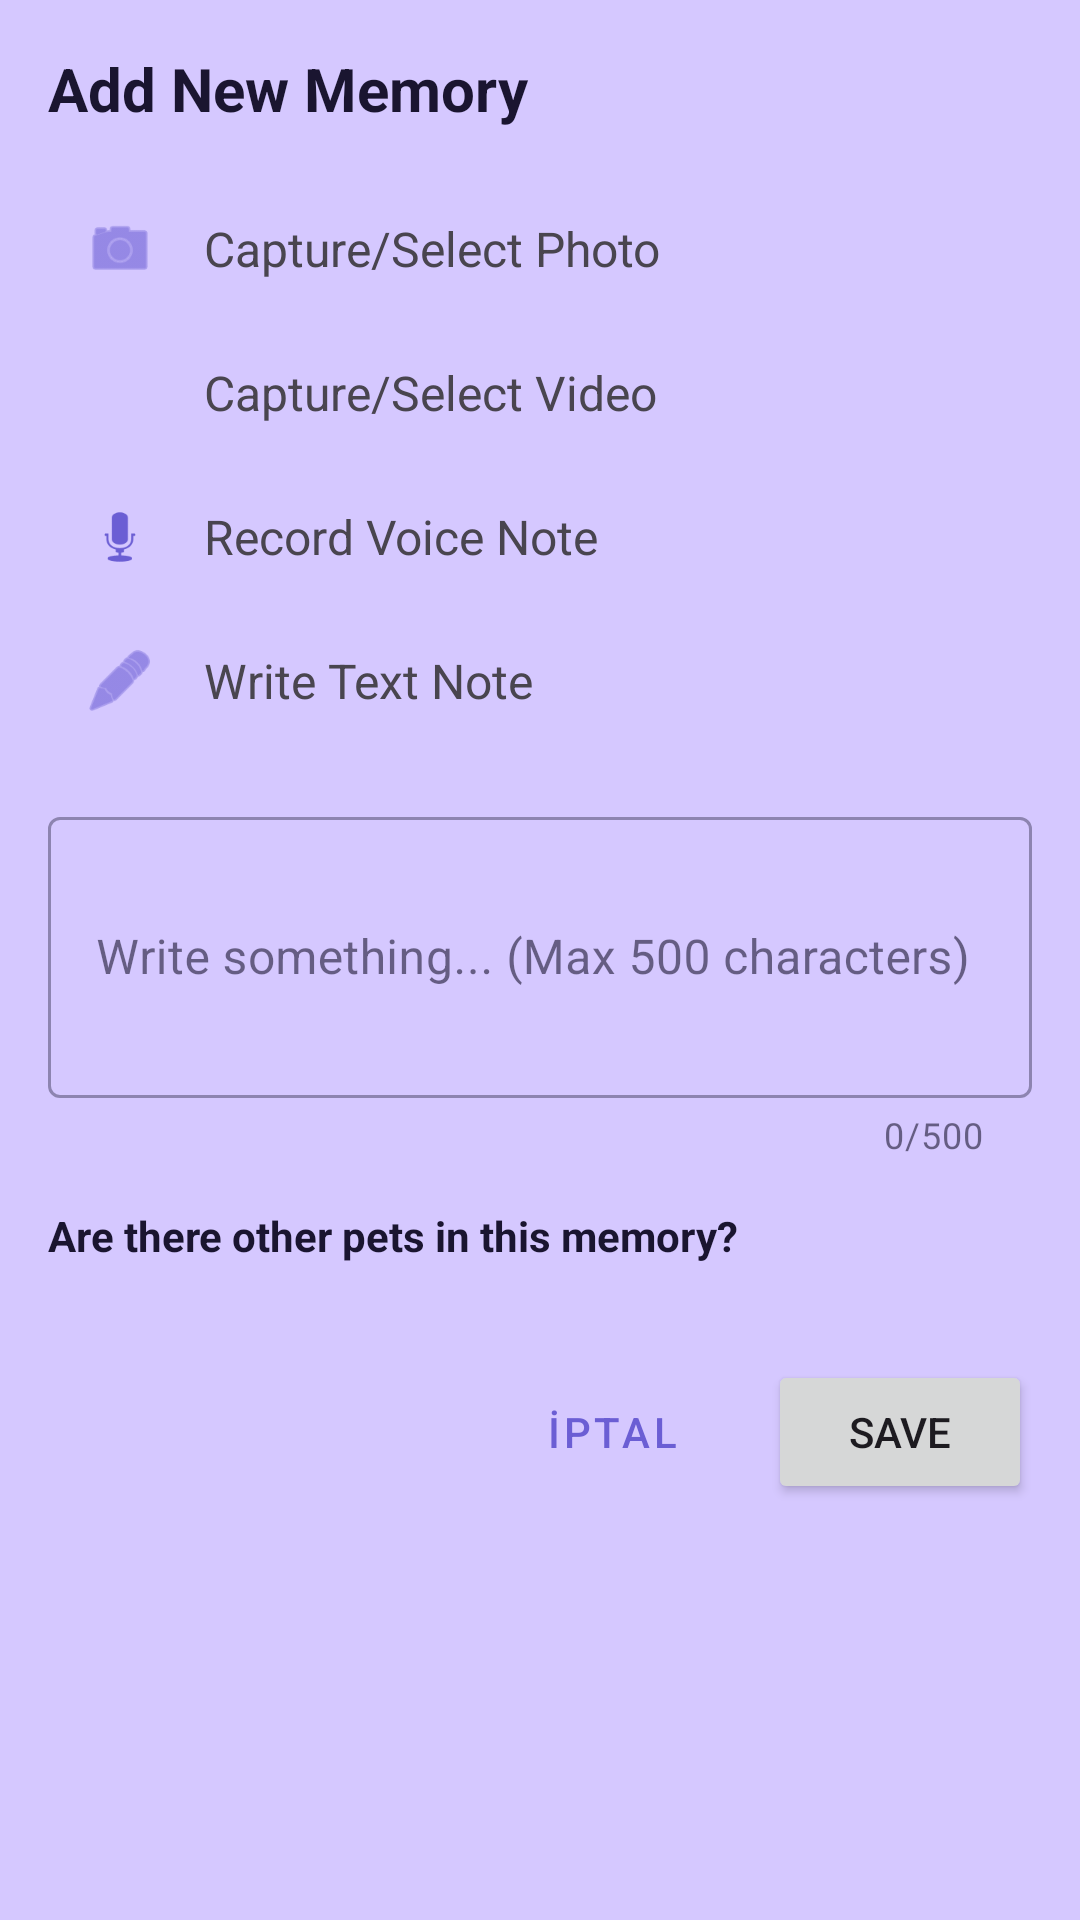

Icons on this 1080*1920 Android screen, each with its box as BBox(x1, y1, x2, y2):
camera: BBox(92, 226, 147, 270)
edit: BBox(90, 650, 150, 711)
speak now: BBox(104, 512, 136, 562)
